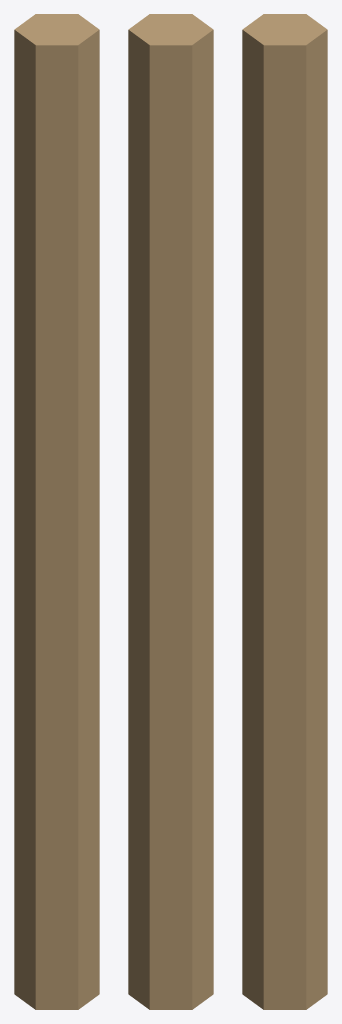
File: prop-flail-swingle.fbx
The picture shows the model from 3 angles, left to right: view 1: azimuth 90°, elevation 25°; view 2: azimuth 150°, elevation 25°; view 3: azimuth 270°, elevation 25°; orthographic projection.
Visible parts, largest first — view 1: prop-flail-swingle; view 2: prop-flail-swingle; view 3: prop-flail-swingle.
Part boxes in pixels (x1,y1,x2,y2): prop-flail-swingle: (14,14,99,1009); prop-flail-swingle: (128,14,213,1009); prop-flail-swingle: (242,14,327,1009).
Size of the model in its own units: 3.46 by 50 by 4.
